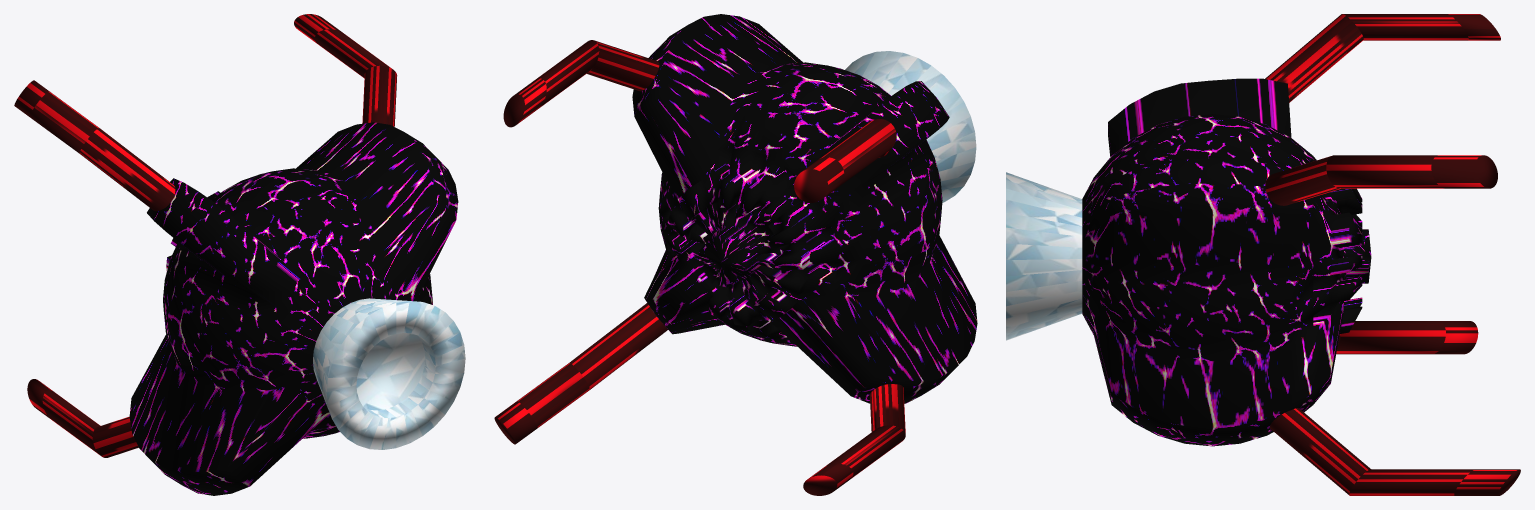
The picture shows the model from 3 angles, left to right: view 1: azimuth 30°, elevation 25°; view 2: azimuth 150°, elevation 25°; view 3: azimuth 270°, elevation 25°; orthographic projection. The views are drawn at different scales.
Visible parts, largest first — view 1: Sphere, Cone, Cylinder.000, Cylinder.004; view 2: Sphere, Cylinder.004, Cylinder.000, Cone; view 3: Sphere, Cylinder.004, Cylinder.000, Cone.
Boxes of the visible parts, <box> form: Sphere: <box>129,122,458,495</box>; Cone: <box>313,298,465,449</box>; Cylinder.000: <box>27,14,397,457</box>; Cylinder.004: <box>14,80,175,211</box>; Sphere: <box>632,14,977,403</box>; Cylinder.004: <box>494,119,896,444</box>; Cylinder.000: <box>503,40,905,495</box>; Cone: <box>845,51,976,202</box>; Sphere: <box>1082,78,1371,446</box>; Cylinder.004: <box>1265,14,1520,495</box>; Cylinder.000: <box>1265,155,1497,354</box>; Cone: <box>1006,172,1082,340</box>.
Size of the model in its own units: 10.18 by 10.15 by 13.97.
Materials: 3 (3 with a texture image).
